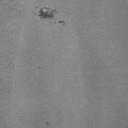iron sheet ash: (37, 5, 58, 19), (58, 20, 64, 24)
